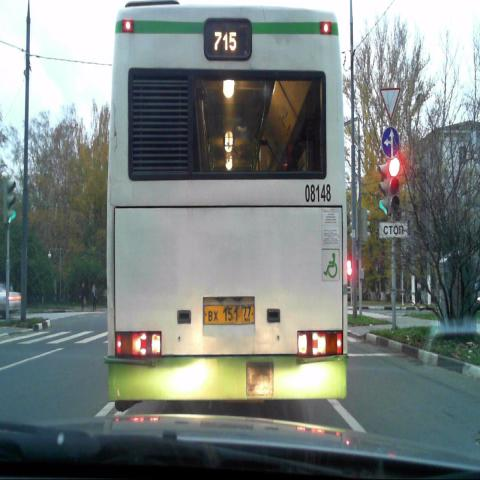4_1_5: (382, 126, 400, 158)
